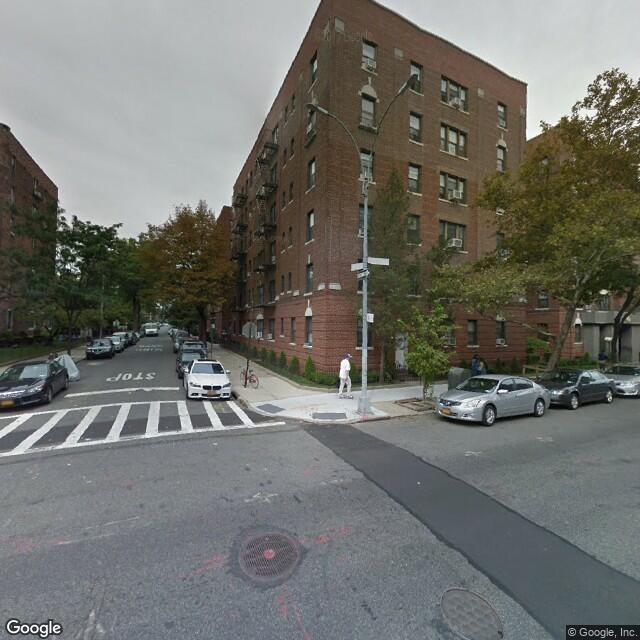litter: (412, 479, 423, 488), (211, 439, 218, 449), (62, 463, 74, 467)
